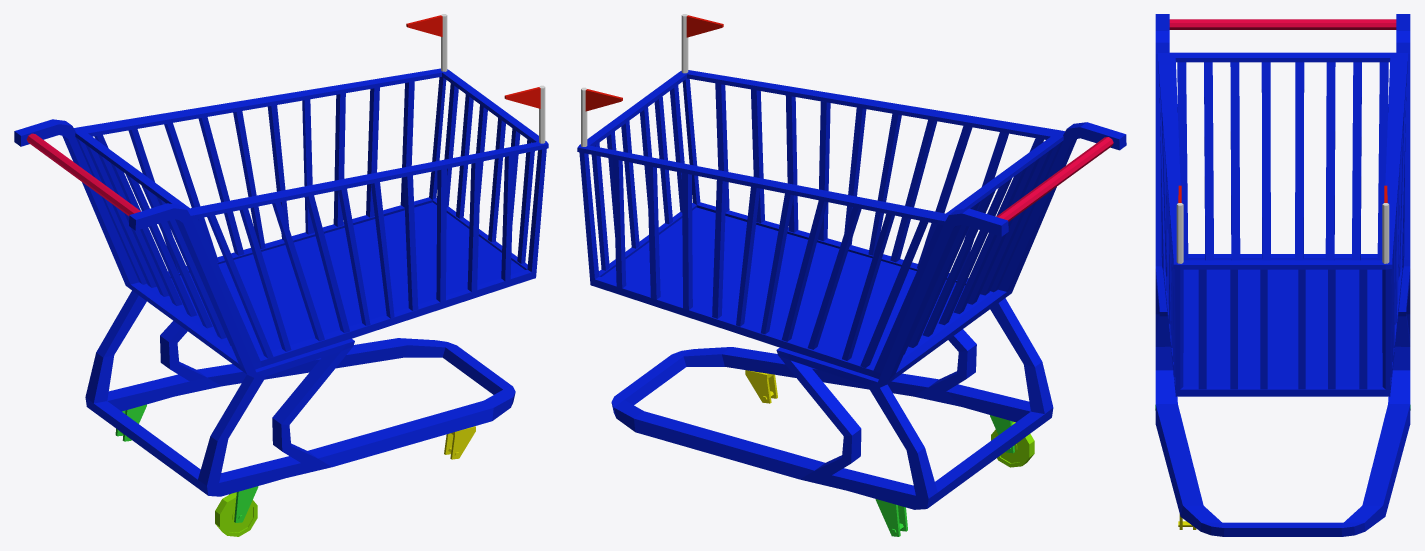
File: Shopping Cart.fbx
3 views of the same model, side by side, from view 1: azimuth 30°, elevation 25°; view 2: azimuth 150°, elevation 25°; view 3: azimuth 270°, elevation 25° (orthographic). The views are drawn at different scales.
Visible parts, largest first — view 1: Shoppingcart, SHC vlag, SHC handle, SHC Wiel .001, SHC achterwiel houder, SHC Voorwiel houder; view 2: Shoppingcart, SHC vlag, SHC handle, SHC achterwiel houder, SHC Wiel .001, SHC Voorwiel houder; view 3: Shoppingcart, SHC handle, SHC vlag.
Boxes of the visible parts, left/top/right/bottom form: Shoppingcart: left=14, top=68, right=548, bottom=496; SHC vlag: left=406, top=14, right=545, bottom=143; SHC handle: left=26, top=133, right=140, bottom=216; SHC Wiel .001: left=215, top=492, right=257, bottom=536; SHC achterwiel houder: left=115, top=404, right=258, bottom=522; SHC Voorwiel houder: left=444, top=426, right=475, bottom=459; Shoppingcart: left=577, top=70, right=1126, bottom=509; SHC vlag: left=581, top=14, right=723, bottom=146; SHC handle: left=996, top=137, right=1113, bottom=221; SHC achterwiel houder: left=875, top=415, right=1014, bottom=536; SHC Wiel .001: left=991, top=421, right=1034, bottom=467; SHC Voorwiel houder: left=745, top=370, right=777, bottom=403; Shoppingcart: left=1155, top=14, right=1410, bottom=536; SHC handle: left=1169, top=19, right=1396, bottom=29; SHC vlag: left=1176, top=185, right=1389, bottom=263.
Size of the model in its own units: 141 by 117 by 70.26.
